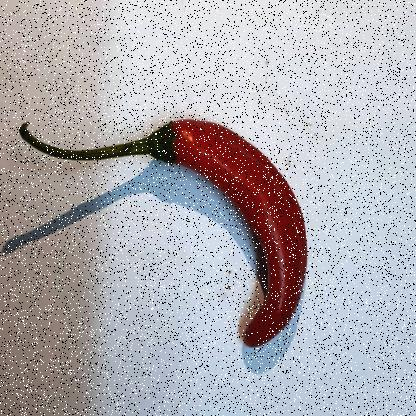chili: (17, 115, 306, 350)
